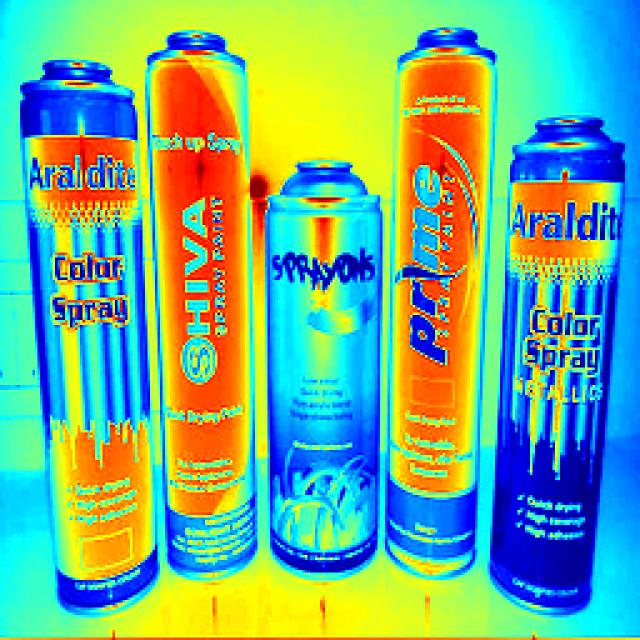Aerosol Cans: (11, 39, 164, 623), (132, 27, 274, 558), (505, 80, 629, 625), (388, 14, 496, 590), (268, 138, 393, 590)
